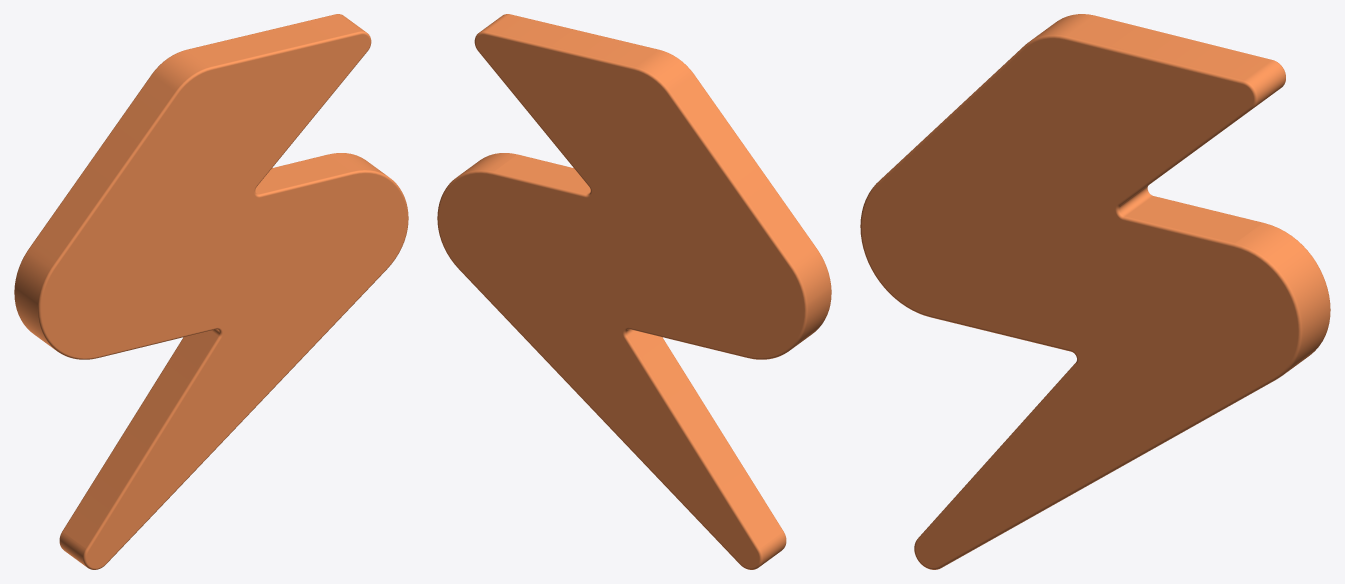
Rendered from Lightning3D.gltf.
3 renders of one model, left to right at view 1: azimuth 30°, elevation 25°; view 2: azimuth 150°, elevation 25°; view 3: azimuth 330°, elevation 25°, orthographic. The views are drawn at different scales.
Parts seen in each view (by area): view 1: Extrude; view 2: Extrude; view 3: Extrude.
Boxes of the visible parts, <box> form: Extrude: <box>14,14,408,569</box>; Extrude: <box>437,14,831,569</box>; Extrude: <box>860,14,1330,569</box>.
Bounding box in the file's own units: 0.6883 × 0.8435 × 0.083.
